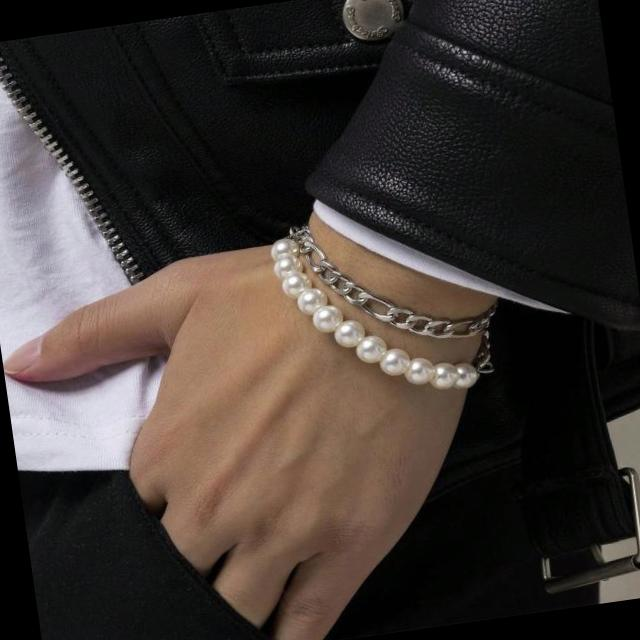Nail: (4, 336, 45, 381)
